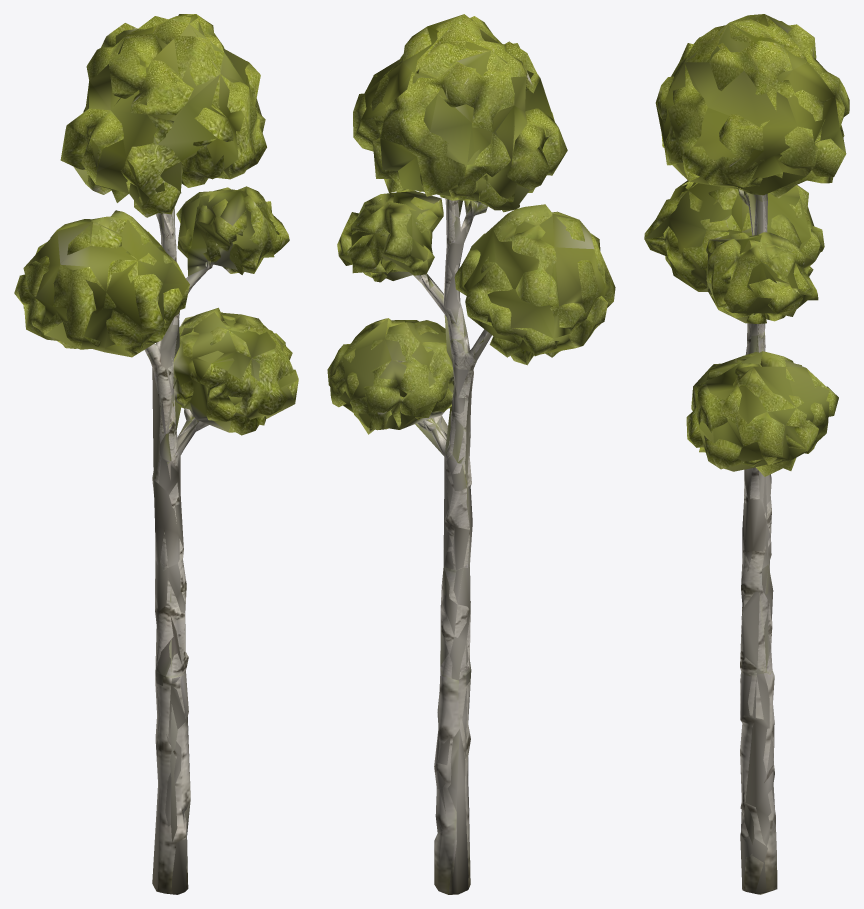
File: abedul_joven.glb
3 views of the same model, side by side, from view 1: azimuth 30°, elevation 25°; view 2: azimuth 150°, elevation 25°; view 3: azimuth 270°, elevation 25° (orthographic).
Visible parts, largest first — view 1: cerca, medio, lejos; view 2: cerca, medio, lejos; view 3: cerca, medio, lejos.
Boxes of the visible parts, x1,y1,x2,y2 form: cerca: (14, 14, 298, 894); medio: (24, 14, 298, 894); lejos: (44, 14, 294, 842); cerca: (327, 14, 615, 894); medio: (329, 14, 610, 894); lejos: (339, 16, 600, 775); cerca: (644, 14, 849, 894); medio: (645, 14, 846, 894); lejos: (670, 14, 836, 844).
Bounding box in the file's own units: 1.26 × 3.99 × 0.8557.
2 materials, 1 textured.
